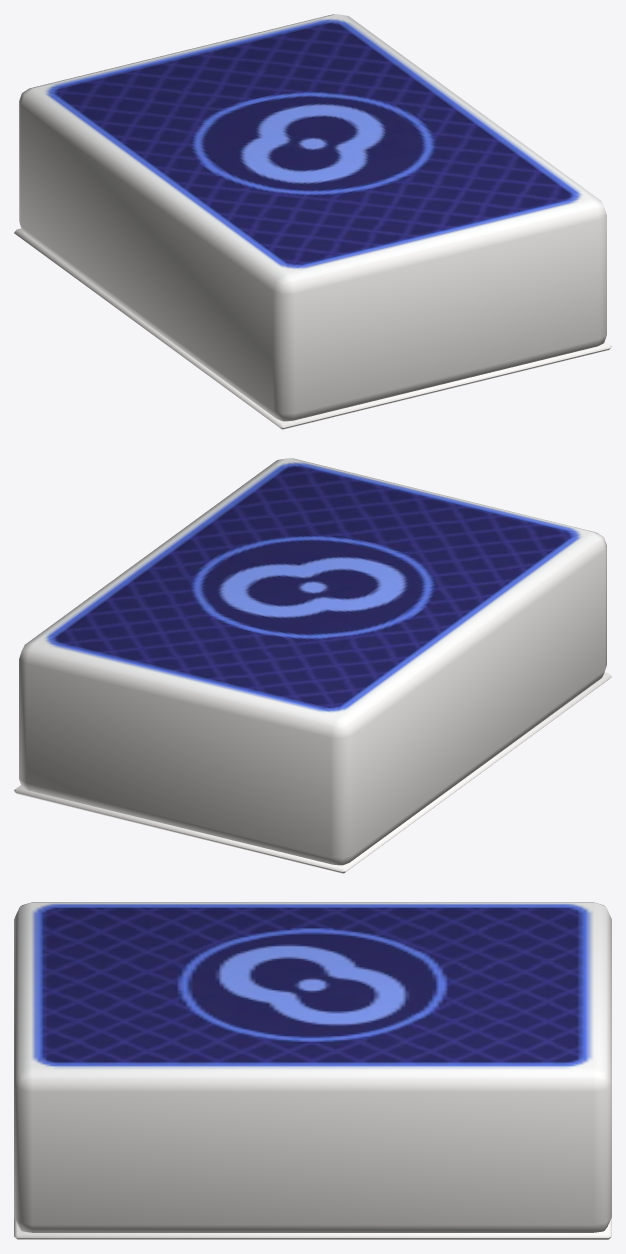
Rendered from cards.glb.
The picture shows the model from 3 angles, top to bottom: view 1: azimuth 30°, elevation 25°; view 2: azimuth 150°, elevation 25°; view 3: azimuth 270°, elevation 25°; orthographic projection. The views are drawn at different scales.
Parts seen in each view (by area): view 1: DECK, CARD; view 2: DECK, CARD; view 3: DECK, CARD.
Part boxes in pixels (bbox=[...]): DECK: bbox=[19, 14, 606, 421]; CARD: bbox=[14, 228, 611, 429]; DECK: bbox=[19, 458, 606, 865]; CARD: bbox=[14, 672, 611, 873]; DECK: bbox=[14, 902, 611, 1232]; CARD: bbox=[14, 1217, 611, 1239].
Bounding box in the file's own units: 0.07 × 0.03 × 0.098.
1 material, 1 textured.
